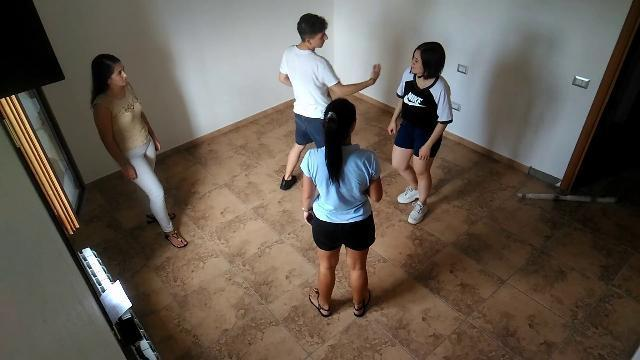non-violence: (88, 52, 190, 250), (297, 97, 385, 321), (385, 40, 455, 228)
violence: (276, 12, 384, 194)
